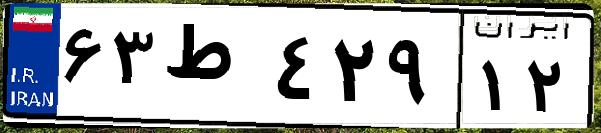1: (475, 38, 525, 113)
2: (330, 28, 385, 110), (525, 38, 570, 115)
3: (110, 28, 158, 98)
4: (270, 28, 330, 110)
6: (57, 26, 110, 100)
9: (385, 28, 445, 110)
ط: (158, 20, 270, 120)
